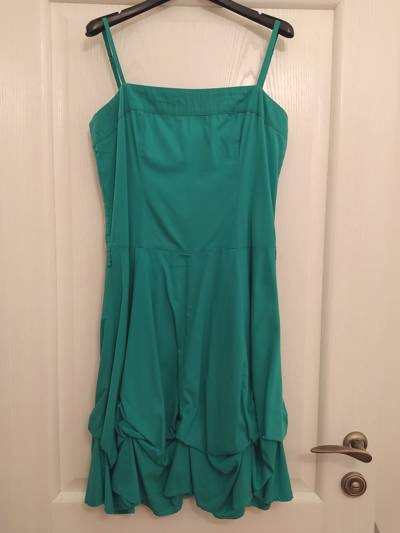Dress: (54, 27, 339, 523)
